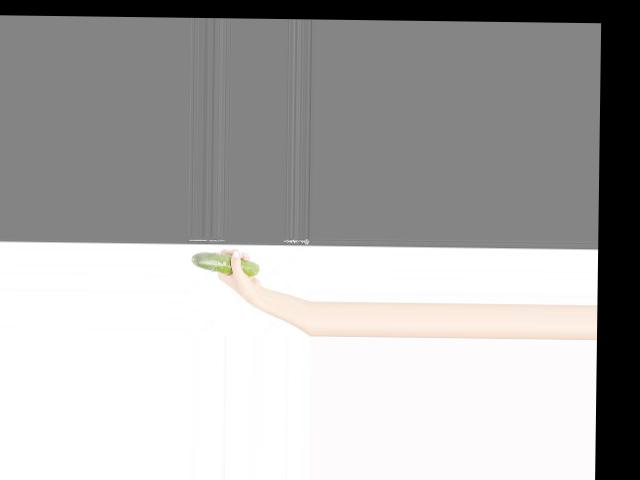cucumber: (190, 251, 259, 275)
